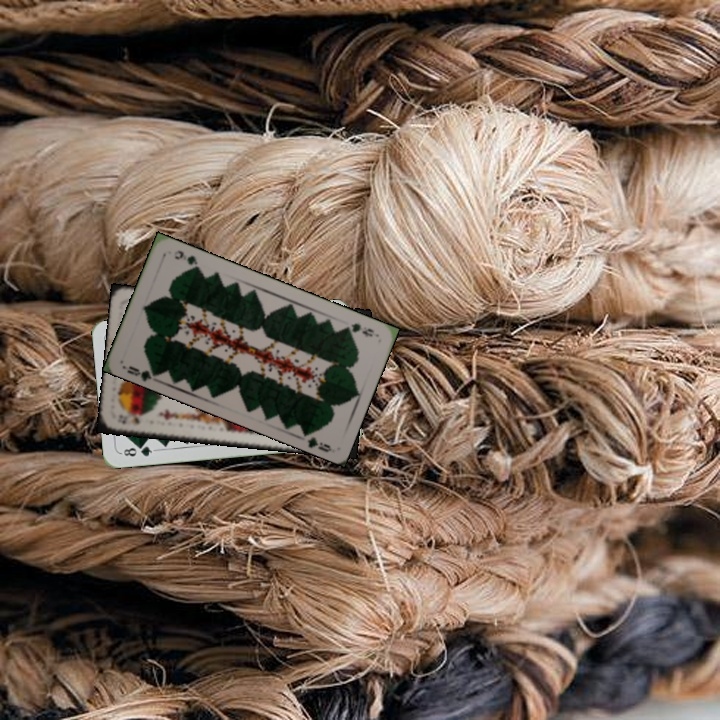G8: (117, 441, 158, 459)
G9: (340, 319, 378, 340), (123, 362, 160, 383)
SK: (113, 410, 142, 427)
